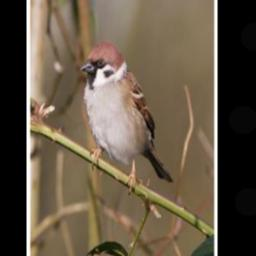Sparrow: (78, 39, 176, 195)
